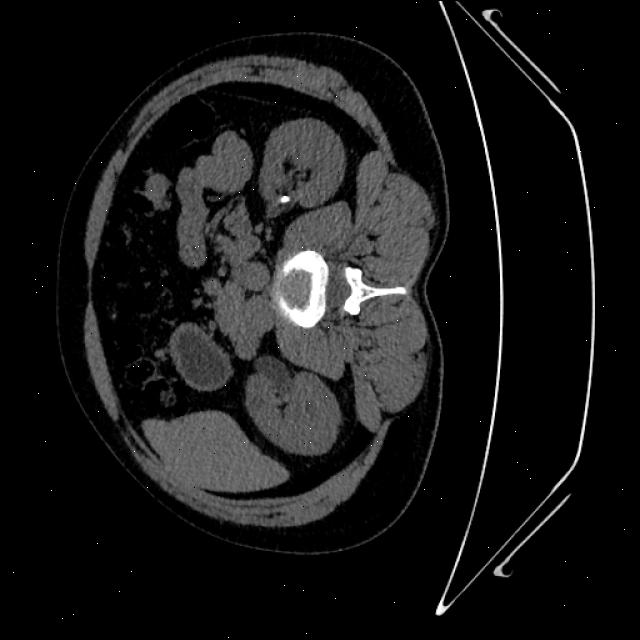kidneystone: (278, 194, 291, 202)
